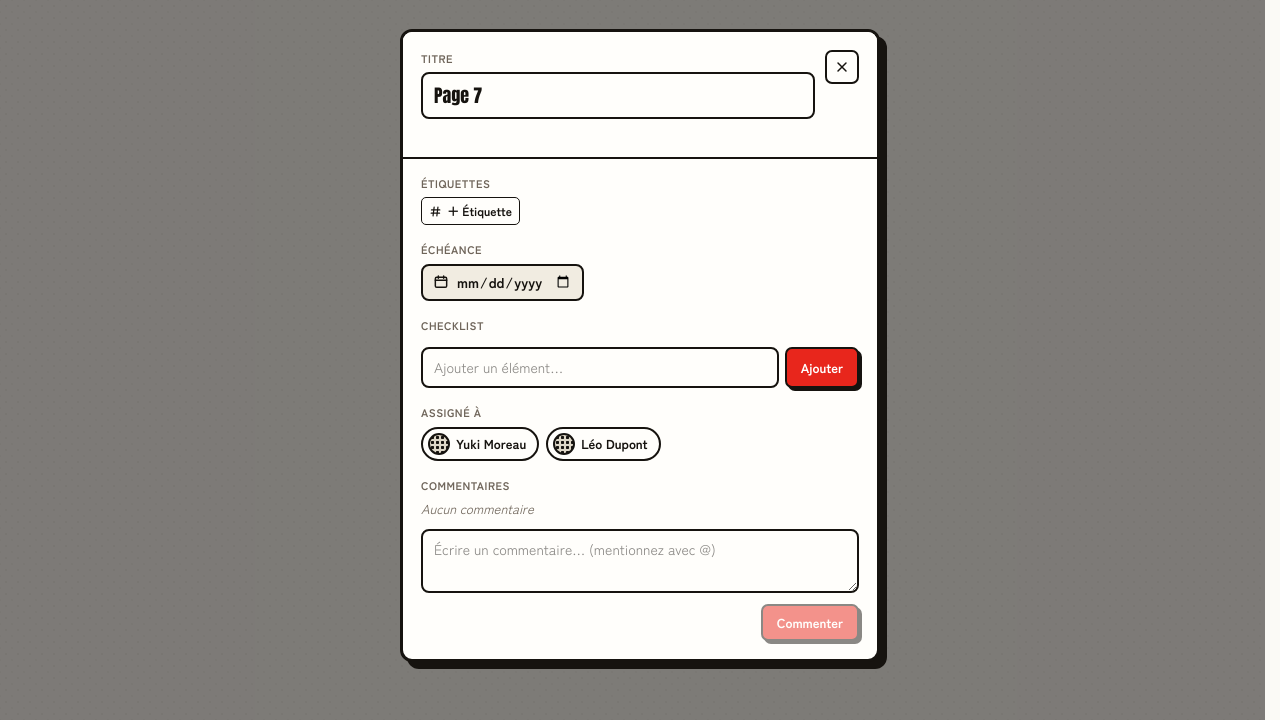
Scenario: CardModal › @name autocomplete inserts @DisplayName into the composer
(page scrolled)
Expected: the field labelled "TITRE" is shown, x1=421 y1=72 x2=815 y2=119
Type "Coucou @Léo" into the text box labelled "Écrire un commentaire". click: (640, 561)
box: x1=421 y1=529 x2=859 y2=593
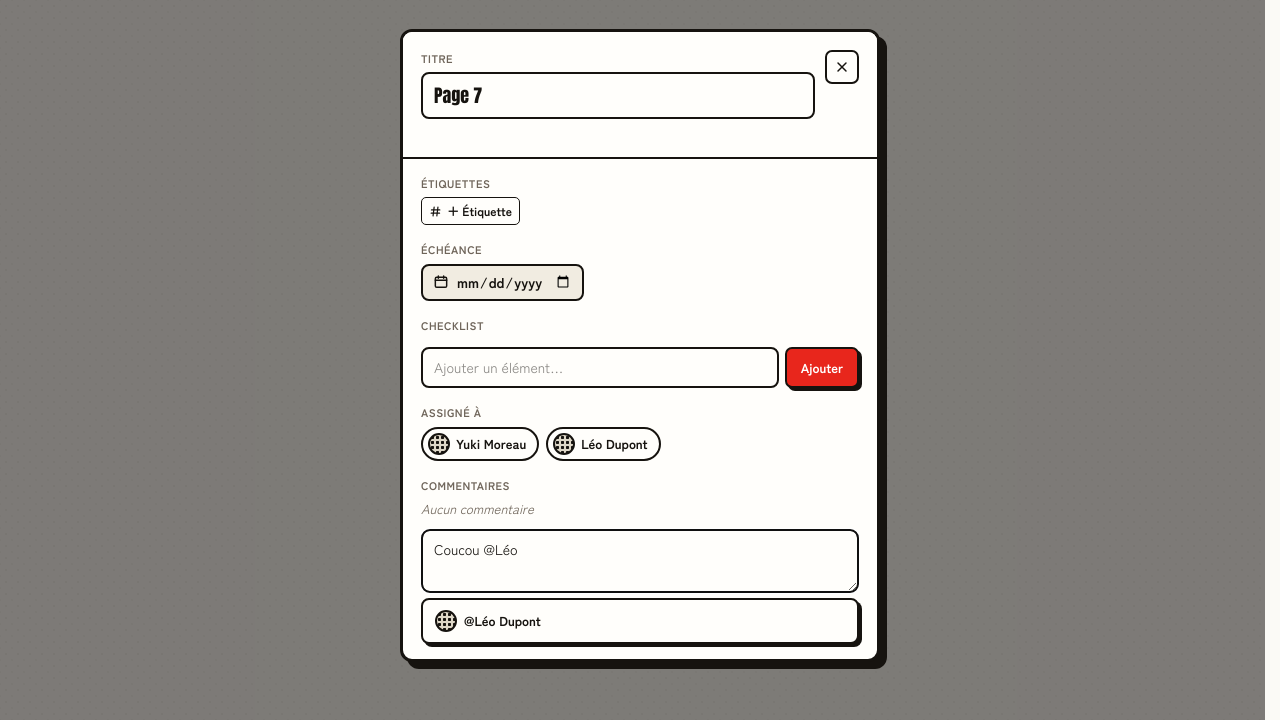
Click the option "@Léo Dupont". click: (508, 621)
box: x1=428 y1=605 x2=852 y2=637
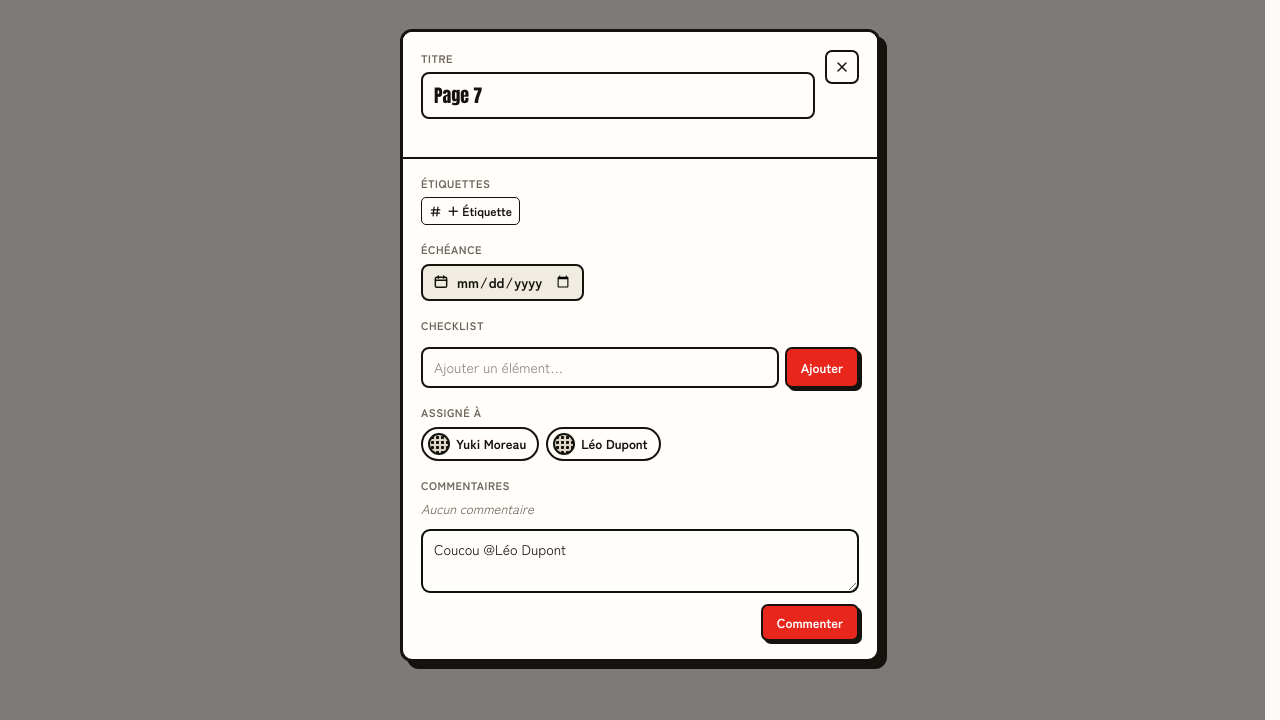
Result: the text box named "Écrire un commentaire" holds "Coucou @Léo Dupont " at x1=421 y1=529 x2=859 y2=593
